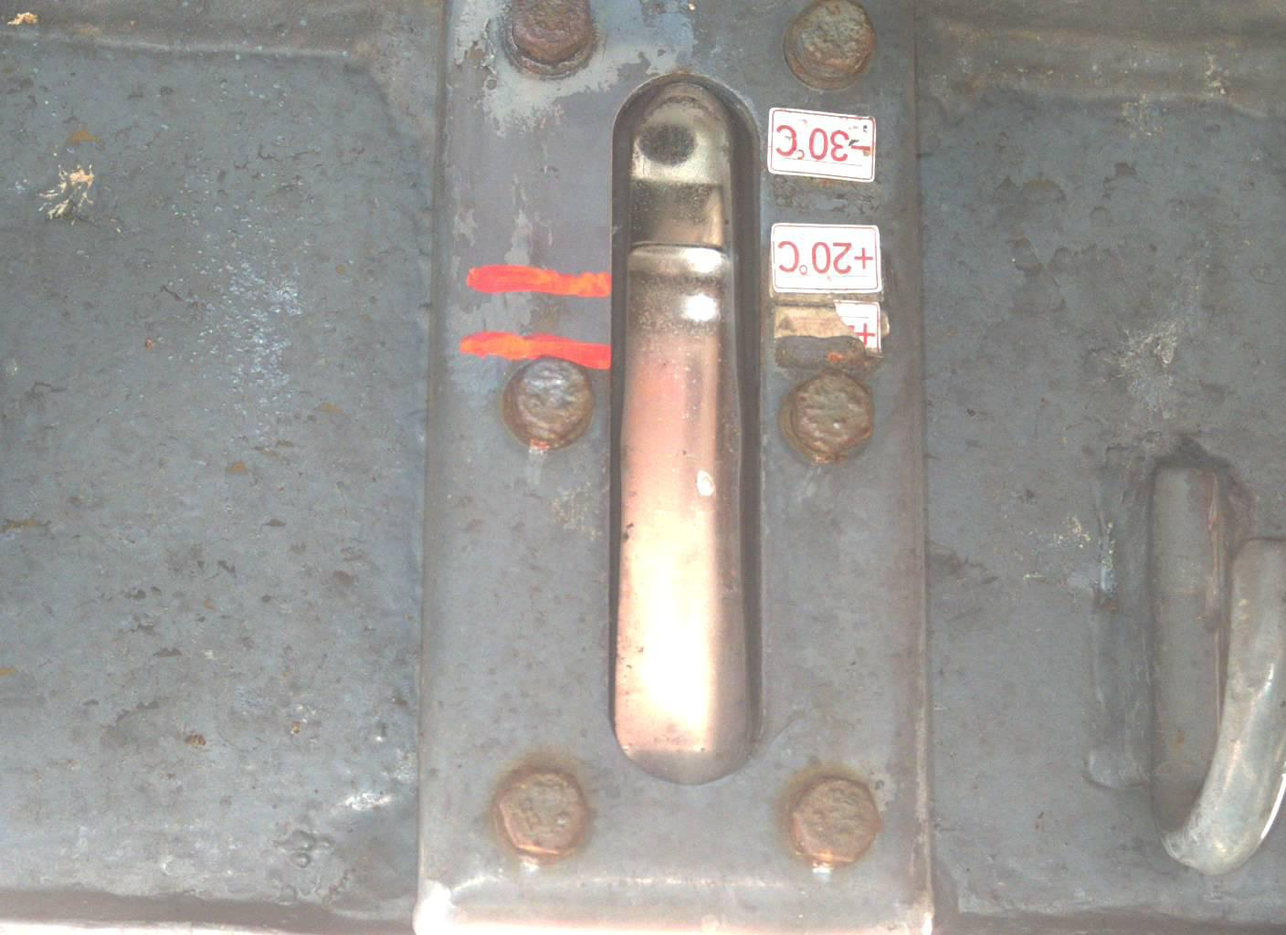oil_level_gauge: (453, 0, 887, 869)
